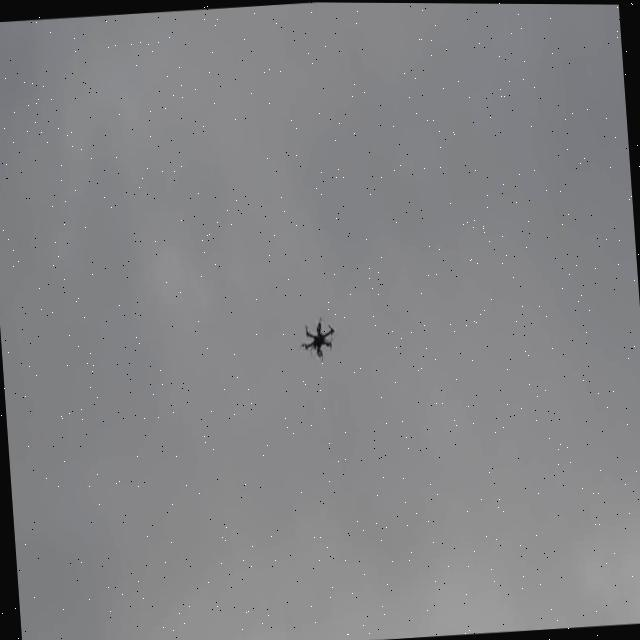drone: (14, 500, 640, 640)
